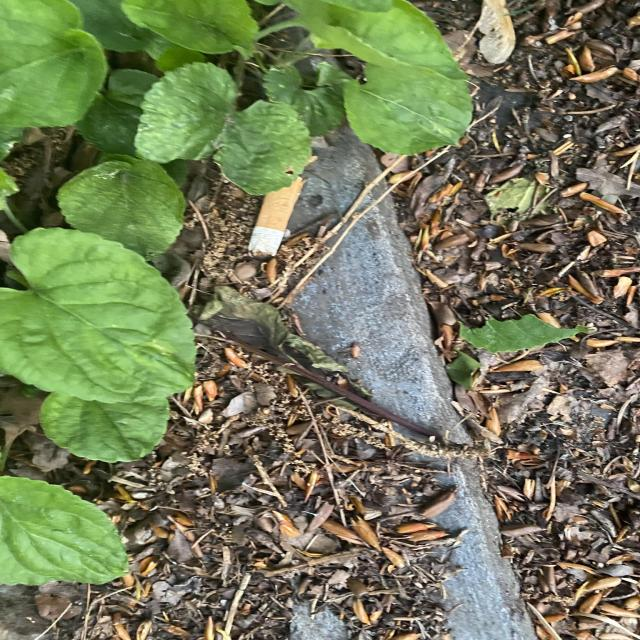other waste: (247, 173, 303, 260)
